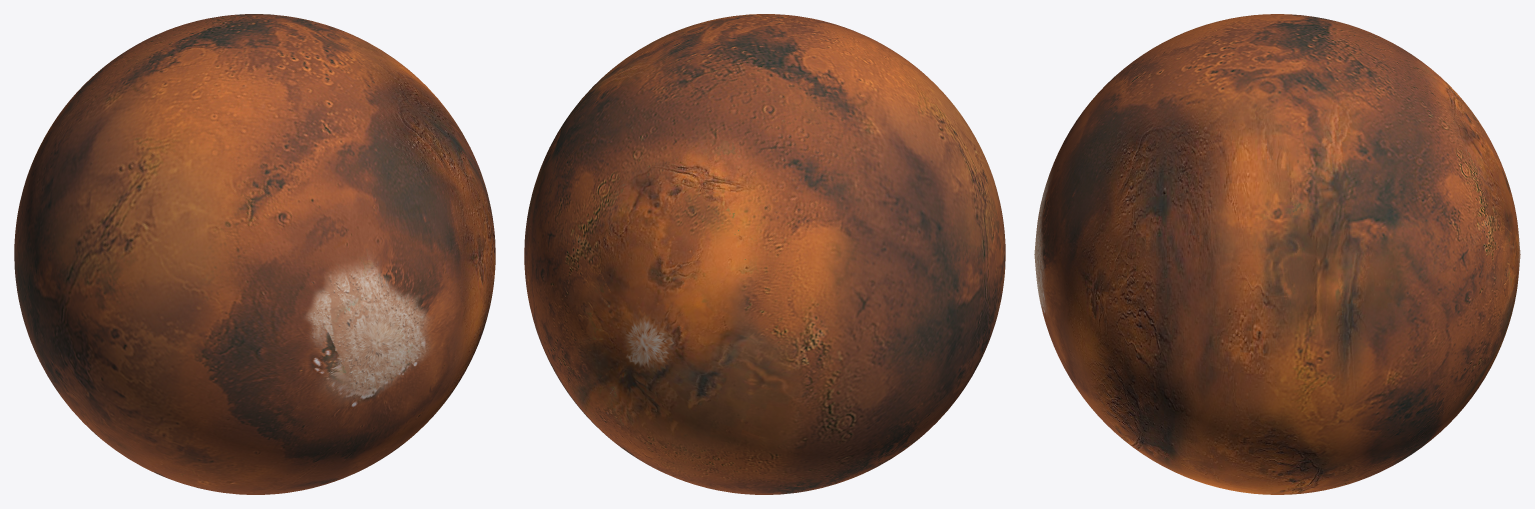
Rendered from 13903_Mars_v1_l3.obj.
3 views of the same model, side by side, from view 1: azimuth 30°, elevation 25°; view 2: azimuth 150°, elevation 25°; view 3: azimuth 270°, elevation 25° (orthographic).
Visible parts, largest first — view 1: Mars; view 2: Mars; view 3: Mars.
Part boxes in pixels (left/top/right/bottom): Mars: left=14, top=14, right=495, bottom=494; Mars: left=524, top=14, right=1005, bottom=494; Mars: left=1034, top=14, right=1520, bottom=494.
Size of the model in its own units: 943 by 943 by 953.
1 material, 1 textured.
